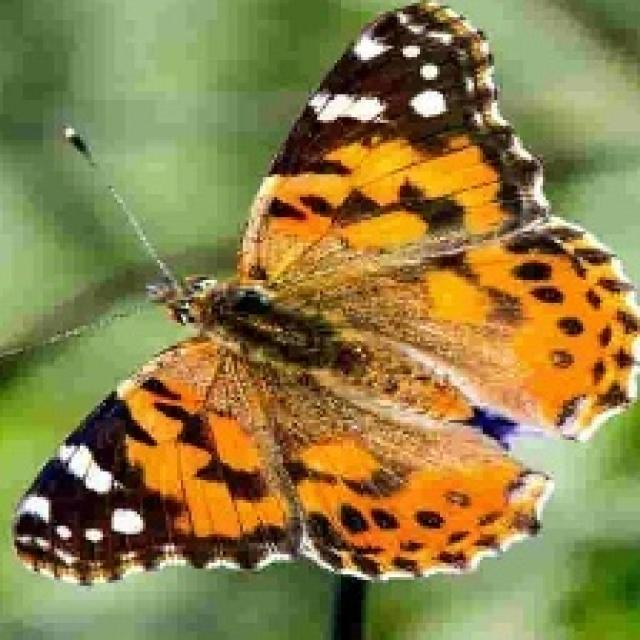butterfly: (3, 0, 637, 589)
